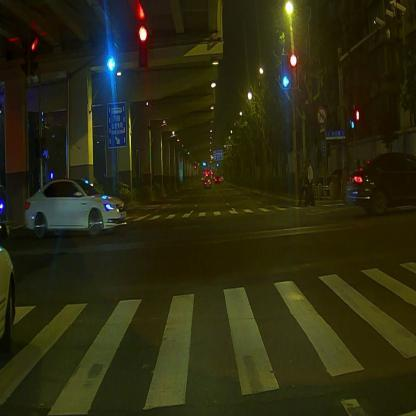Red Light: (139, 24, 149, 66), (290, 54, 298, 88)
